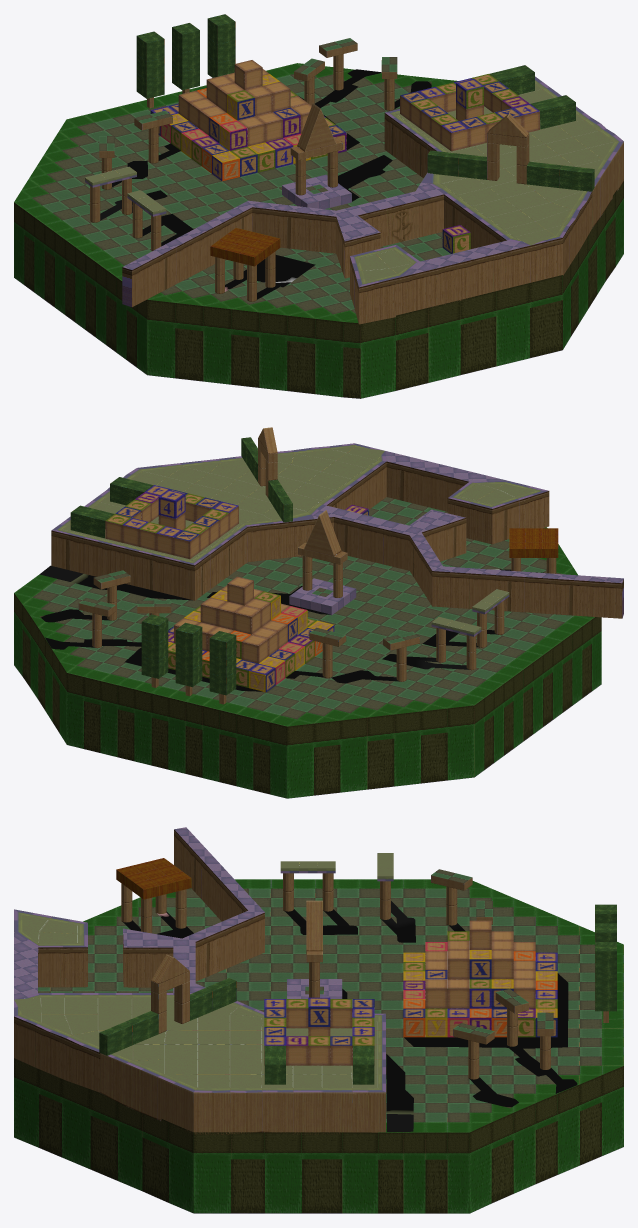
The model's file is test-zone2.glb.
The picture shows the model from 3 angles, top to bottom: view 1: azimuth 30°, elevation 25°; view 2: azimuth 150°, elevation 25°; view 3: azimuth 270°, elevation 25°; orthographic projection. The views are drawn at different scales.
Parts seen in each view (by area): view 1: Frame_0.001; view 2: Frame_0.001; view 3: Frame_0.001.
Boxes of the visible parts, <box> form: Frame_0.001: <box>14,14,623,398</box>; Frame_0.001: <box>14,427,623,798</box>; Frame_0.001: <box>14,827,623,1213</box>.
Size of the model in its own units: 142 by 47.82 by 138.
Materials: 1 (1 with a texture image).
